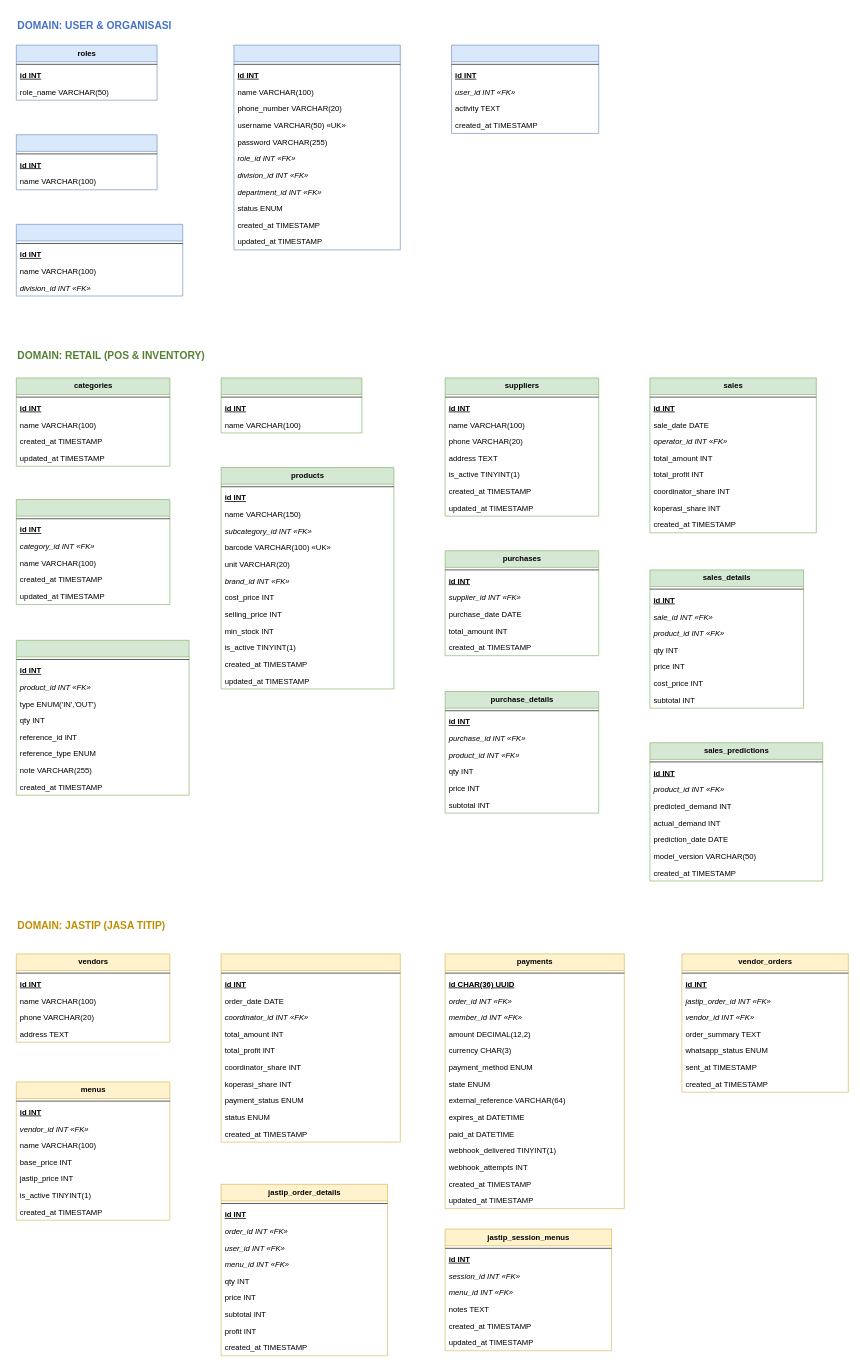
Image size: 860x1367. Some labels were removed from this diagram. Here are the shapes that lost their labels. From the top down, the box of each, then its label:
(451, 44, 599, 133): activity_logs
(16, 134, 157, 190): divisions
(233, 44, 400, 250): users
(16, 224, 183, 296): departments
(220, 377, 362, 433): brands
(16, 499, 170, 604): subcategories
(16, 640, 189, 795): inventory_transactions
(220, 953, 400, 1142): jastip_orders
